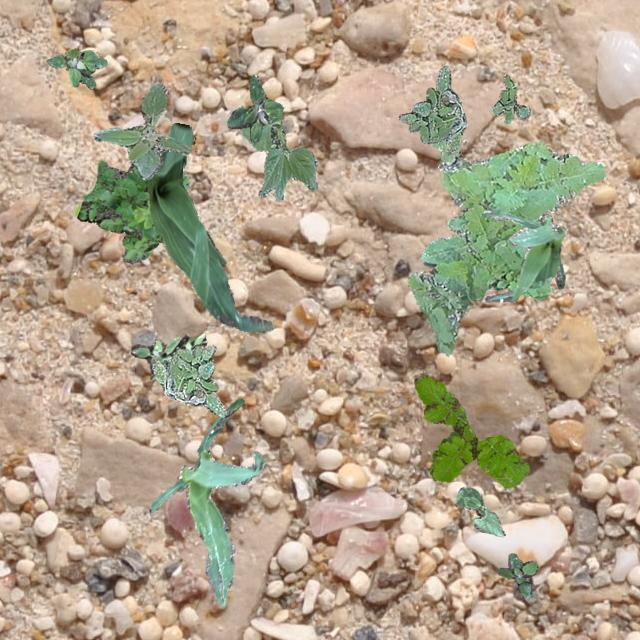crop: (146, 121, 274, 332), (148, 398, 264, 606), (480, 208, 566, 302), (238, 110, 316, 200), (454, 486, 504, 536)
weed: (406, 138, 604, 354), (412, 371, 528, 486), (74, 160, 188, 262), (94, 80, 190, 178), (398, 64, 466, 152), (152, 344, 226, 416), (225, 74, 282, 142), (130, 332, 206, 378), (46, 48, 106, 88), (491, 74, 528, 124), (496, 552, 536, 596)
